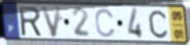2: (71, 7, 92, 40)
4: (126, 6, 144, 41)
C: (94, 7, 116, 39), (147, 9, 169, 40)
R: (17, 5, 44, 38)
V: (39, 5, 63, 39)
